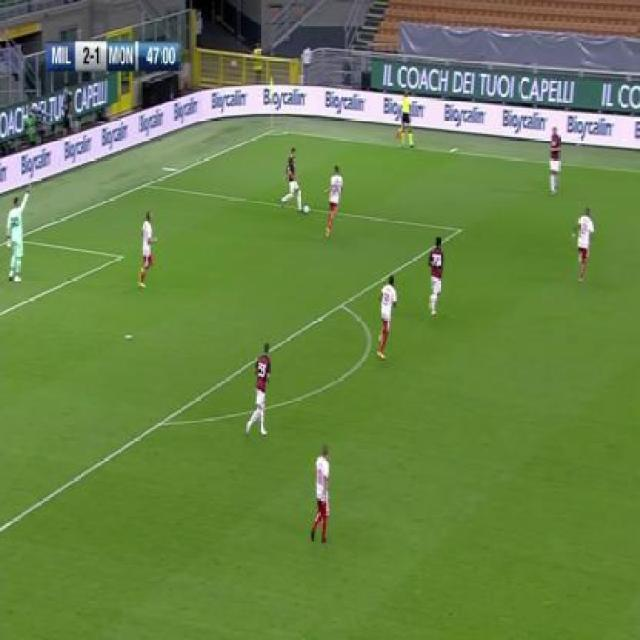ball: (303, 203, 311, 216)
player: (5, 180, 33, 285), (244, 342, 273, 441), (309, 443, 334, 548), (376, 272, 398, 360), (280, 145, 306, 216), (573, 206, 596, 285), (136, 208, 158, 290), (426, 235, 446, 320), (322, 164, 344, 240), (396, 88, 416, 150), (547, 125, 563, 198)
